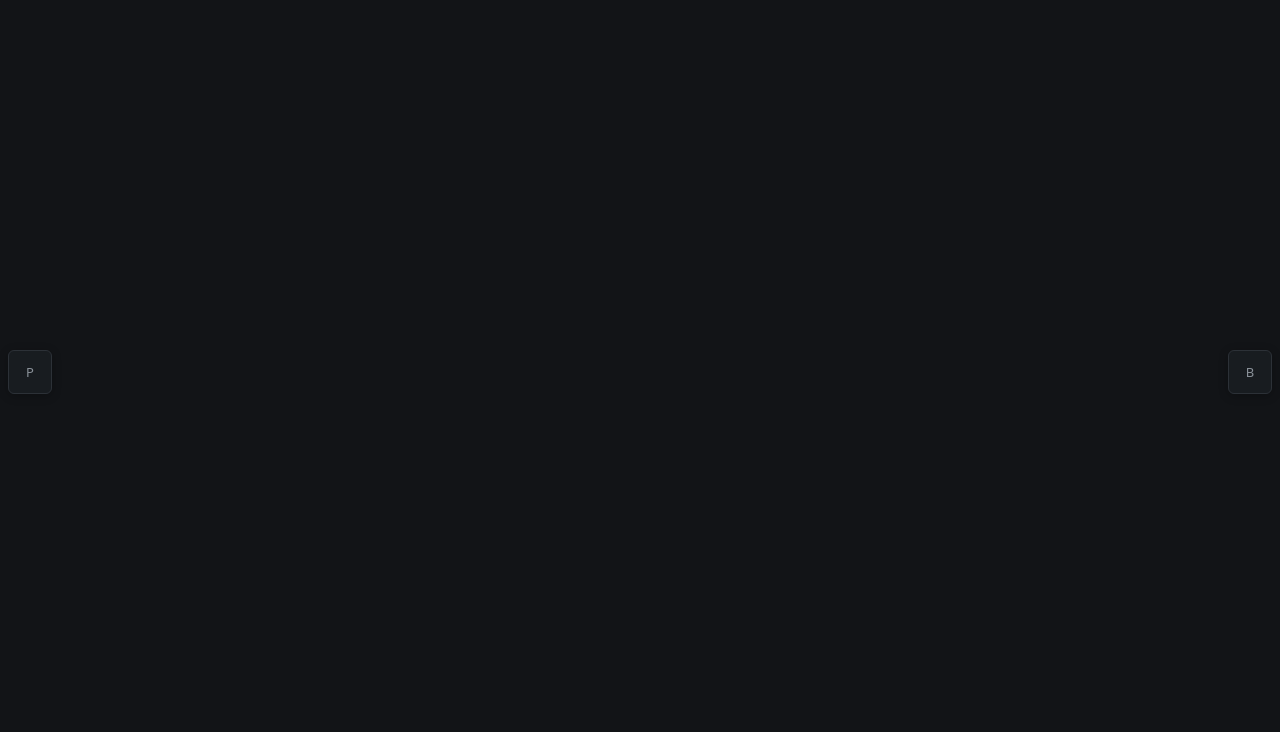
Tool Registry extensibility › a registered tool gets a rail button and opens as a docked panel, with no other code
Click the button with test id "rail-btn-probe" at coordinates (30, 372), box [13,355,47,389]
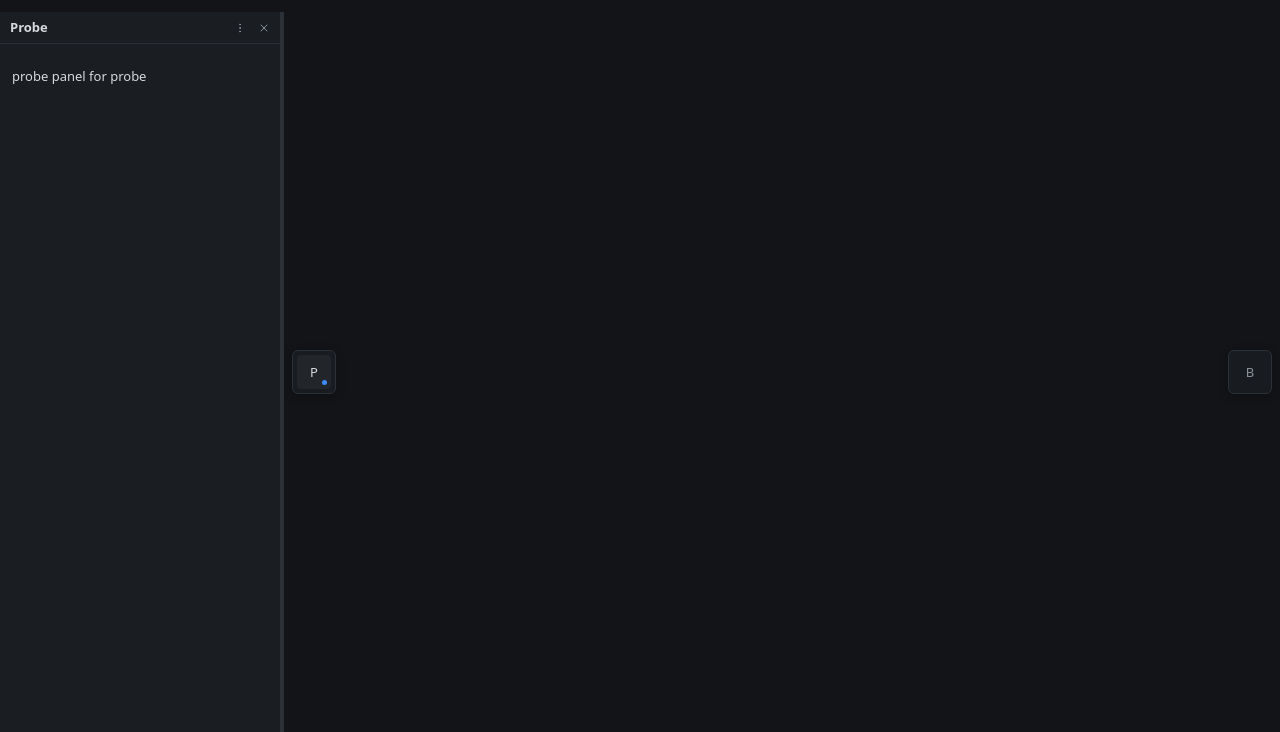
Result: the text "probe panel for probe" is shown at [12,67,146,85]
